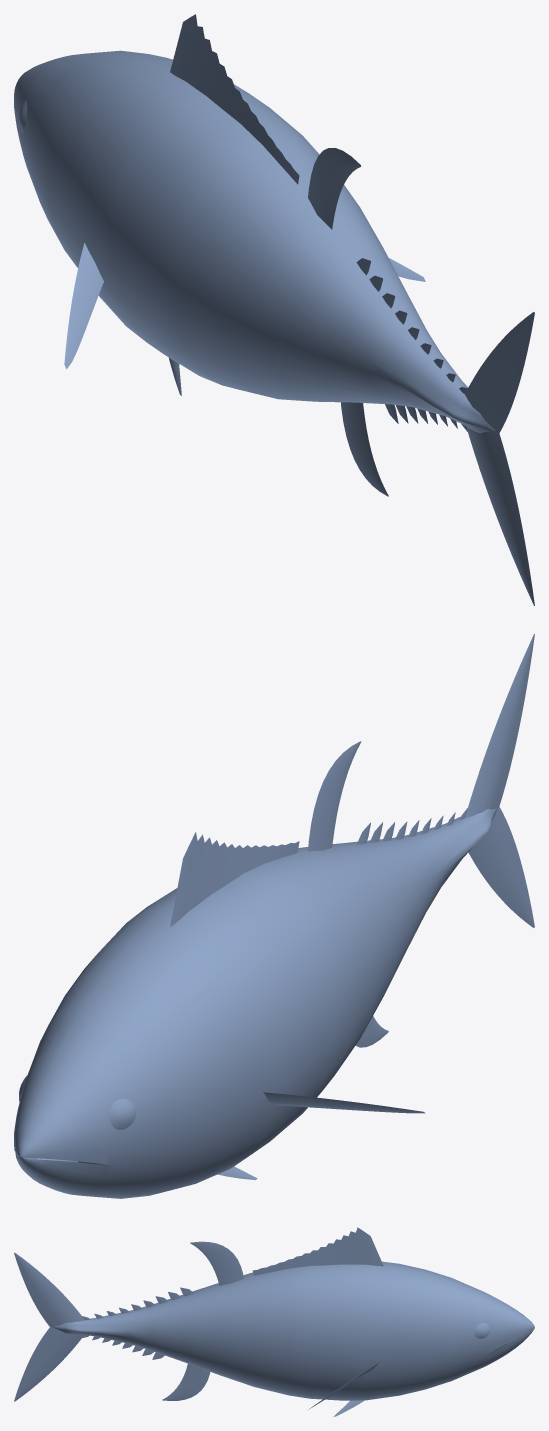
Rendered from bluefin_tuna_game.glb.
The picture shows the model from 3 angles, top to bottom: view 1: azimuth 30°, elevation 25°; view 2: azimuth 150°, elevation 25°; view 3: azimuth 270°, elevation 25°; orthographic projection. The views are drawn at different scales.
Visible parts, largest first — view 1: bluefin_tuna_game; view 2: bluefin_tuna_game; view 3: bluefin_tuna_game.
Part boxes in pixels (x1,y1,x2,y2): bluefin_tuna_game: [14, 14, 534, 605]; bluefin_tuna_game: [14, 634, 534, 1198]; bluefin_tuna_game: [14, 1227, 534, 1416].
Size of the model in its own units: 1.01 by 0.953 by 2.5.
